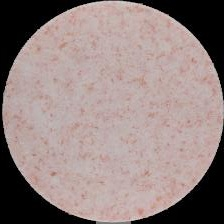0054-0254: (0, 0, 224, 224)
